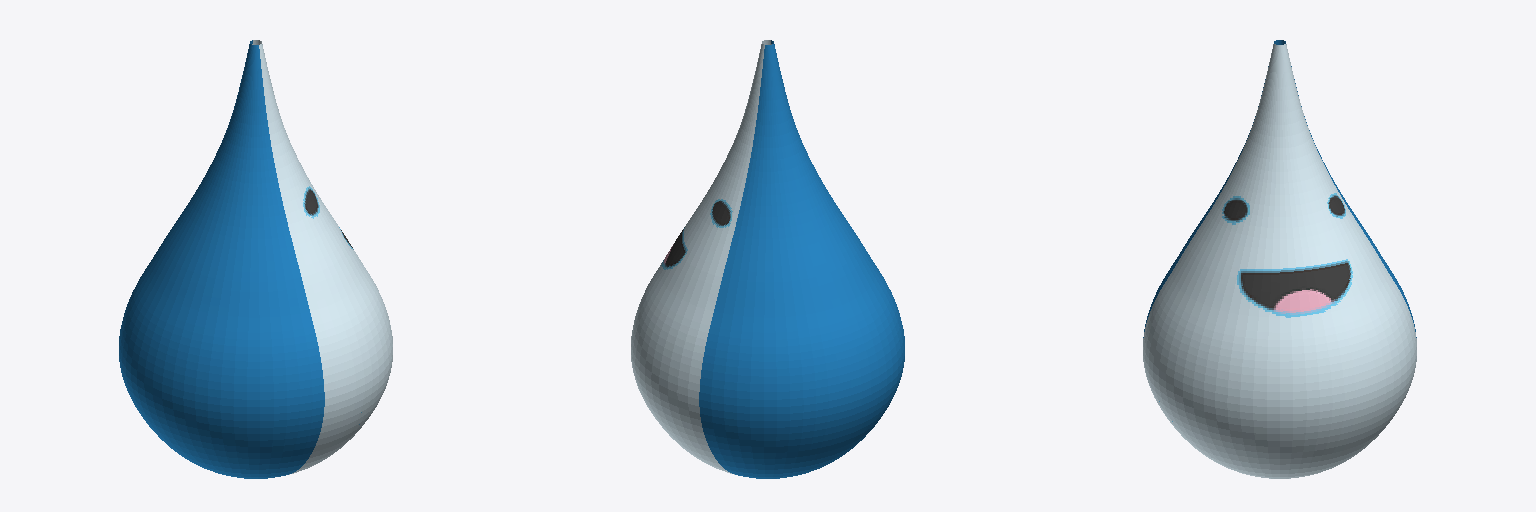
3 views of the same model, side by side, from view 1: azimuth 30°, elevation 25°; view 2: azimuth 150°, elevation 25°; view 3: azimuth 270°, elevation 25° (orthographic).
Visible parts, largest first — view 1: Circle_Circle.001; view 2: Circle_Circle.001; view 3: Circle_Circle.001.
Boxes of the visible parts, x1=… form: Circle_Circle.001: x1=119, y1=40, x2=392, y2=478; Circle_Circle.001: x1=631, y1=40, x2=904, y2=478; Circle_Circle.001: x1=1143, y1=40, x2=1416, y2=478.
Bounding box in the file's own units: 2.81 × 4.82 × 2.81.
2 materials, 1 textured.